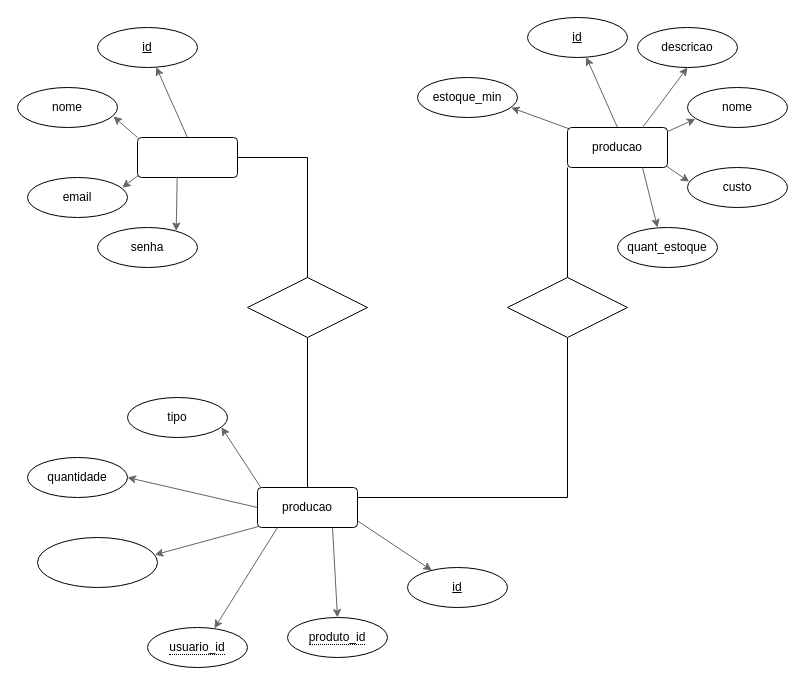
This 805x685 diagram has some shape labels left out. Here are the shapes that lost their labels. From the top down, the box of each, then its label:
(136, 136, 238, 178): usuario
(246, 276, 368, 338): 1:N
(506, 276, 628, 338): N:1
(36, 536, 158, 588): data_movimentação
